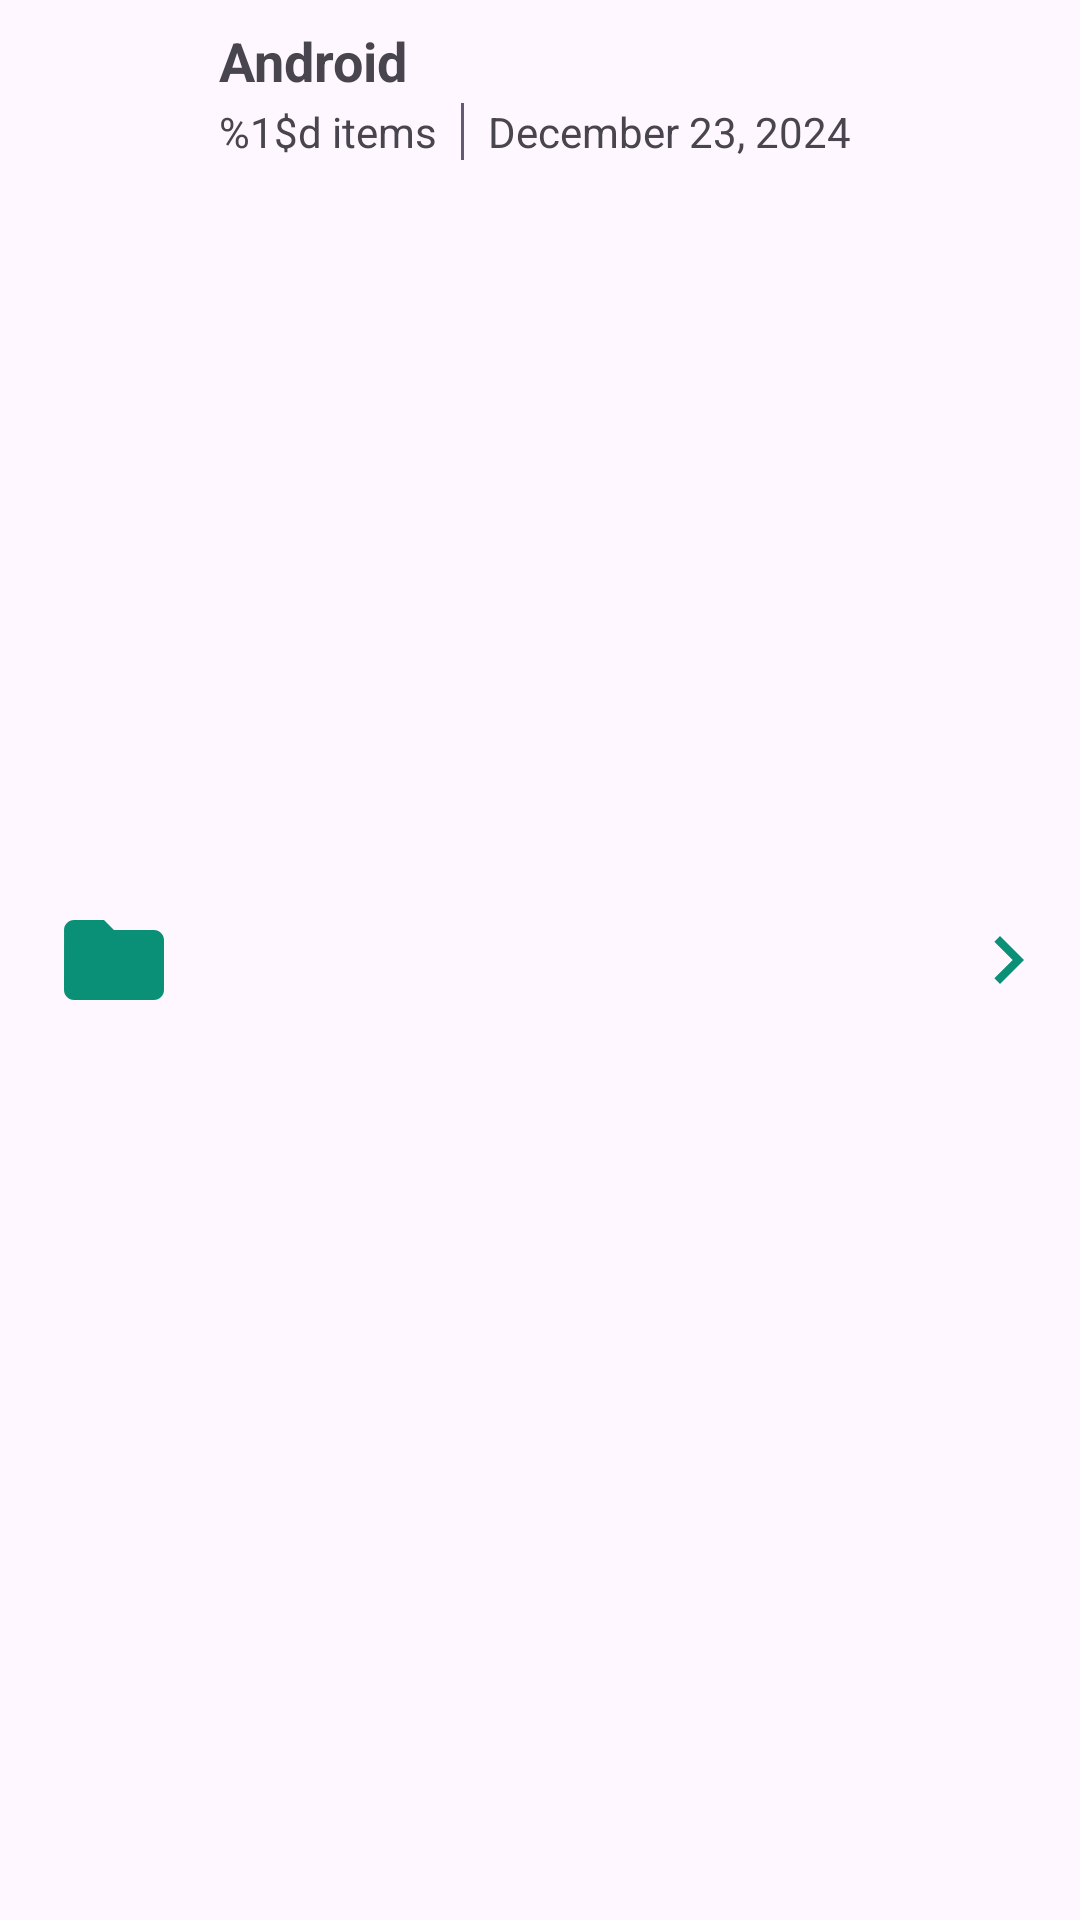

Icons on this 1080w x 1920h Android screen, each with the point to tap as (x=x, y=y):
File/Folder Icon: (x=114, y=960)
open: (x=1009, y=960)
